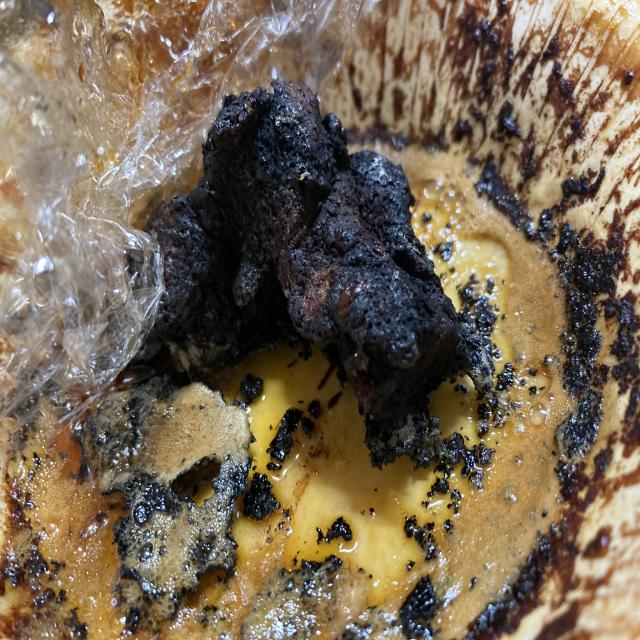overcooked pork: (80, 53, 482, 475)
